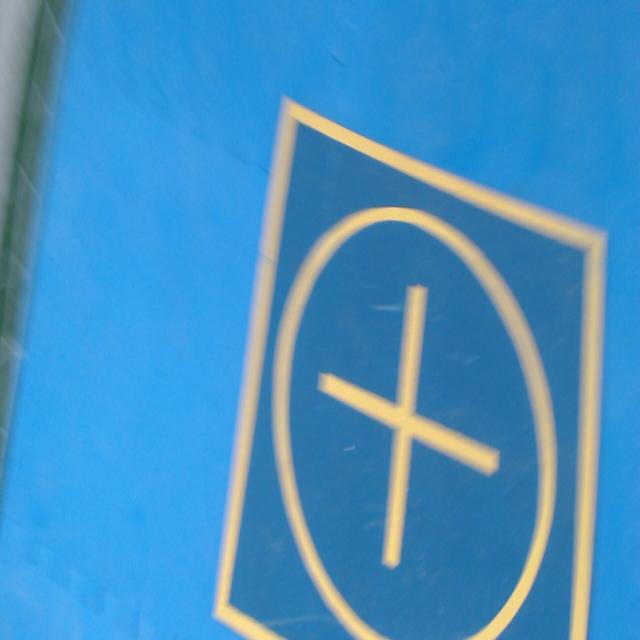base_pouso: (209, 94, 610, 639)
